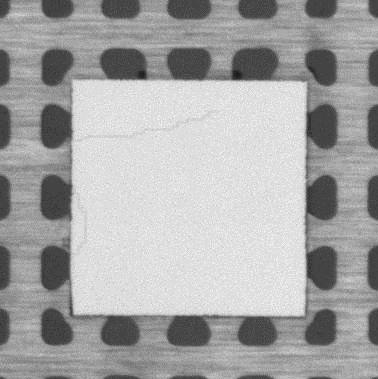DIE_CRACK: (73, 107, 228, 252)
